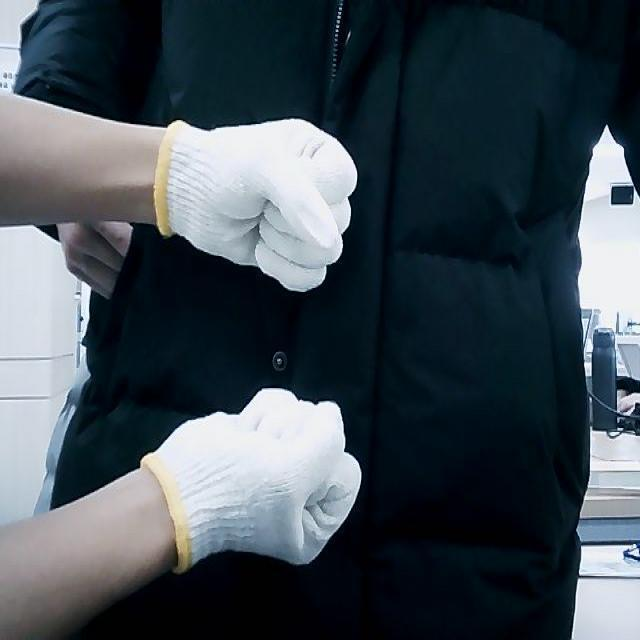GLOVE: (138, 386, 363, 575), (152, 117, 358, 291)
